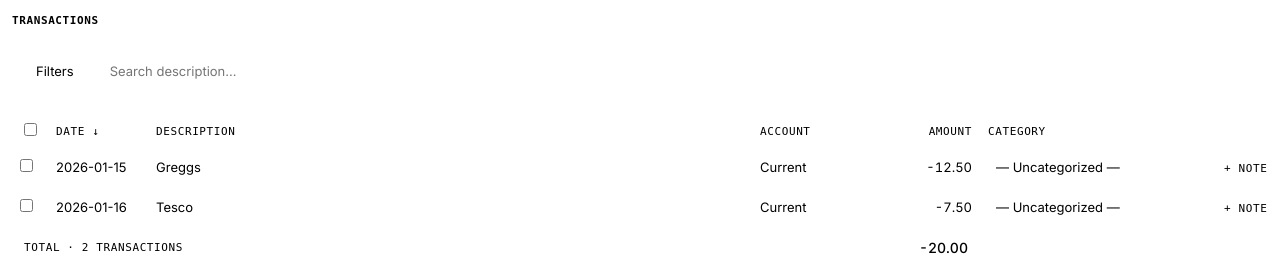
ledger controls card › the count tracks the selection
This screenshot has width=1284, height=272.
Step 1. Click the checkbox named "Select Greggs" → (26, 166), box x1=20 y1=159 x2=33 y2=172
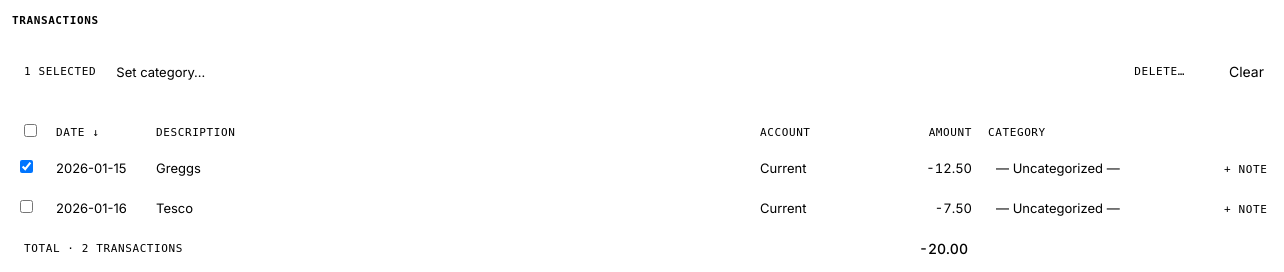
Step 2. Click the checkbox named "Select Tesco" → (26, 206), box x1=20 y1=200 x2=33 y2=213
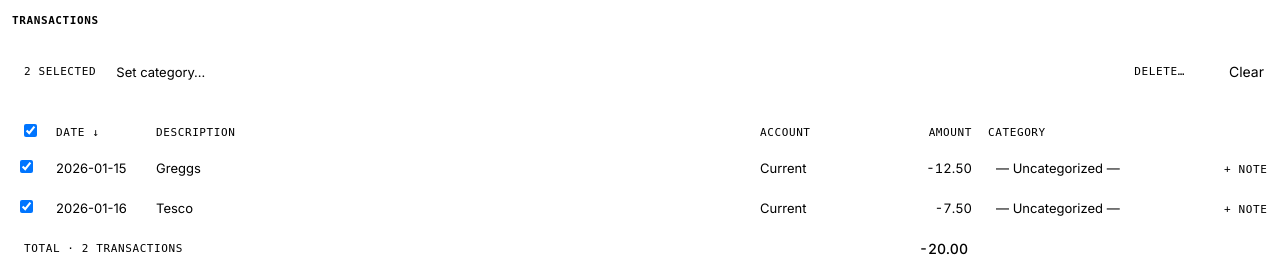
Result: the text "2 selected" is shown at x1=24 y1=65 x2=96 y2=78
